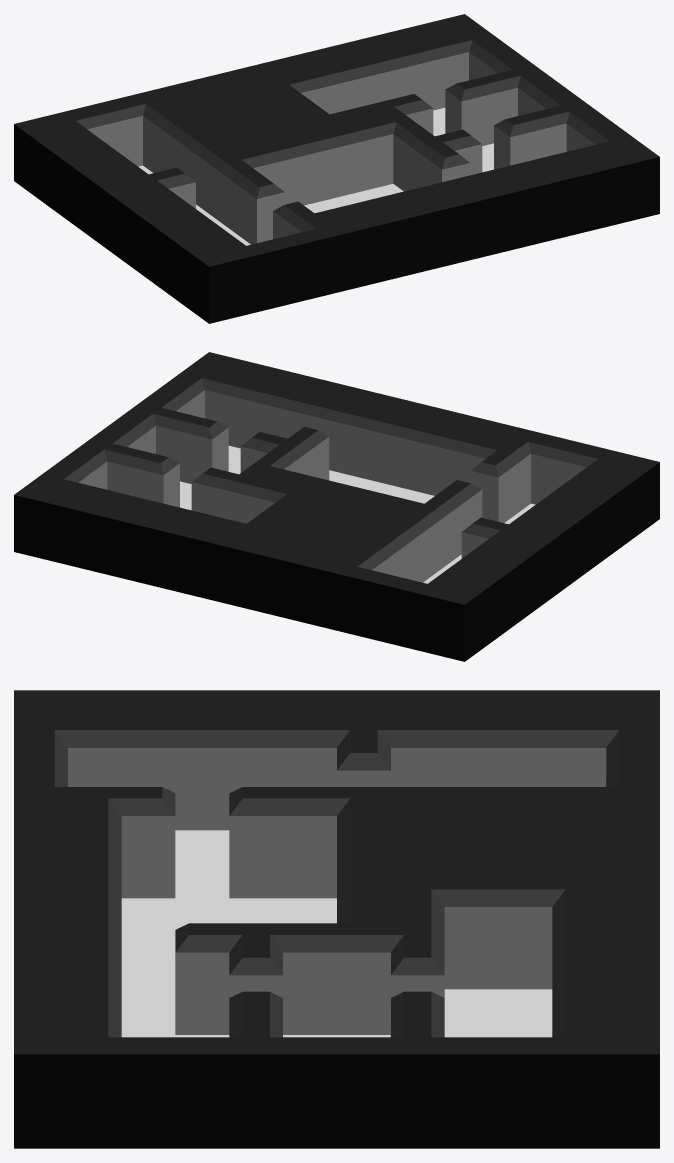
The model's file is lv2Child.fbx.
3 views of the same model, one above another, from view 1: azimuth 30°, elevation 25°; view 2: azimuth 150°, elevation 25°; view 3: azimuth 270°, elevation 25° (orthographic). The views are drawn at different scales.
Parts seen in each view (by area): view 1: lvl2Child; view 2: lvl2Child; view 3: lvl2Child.
Part boxes in pixels (bbox=[...]): lvl2Child: bbox=[14, 14, 659, 323]; lvl2Child: bbox=[14, 352, 659, 661]; lvl2Child: bbox=[14, 690, 659, 1148].
Bounding box in the file's own units: 2480 × 300 × 1860.
